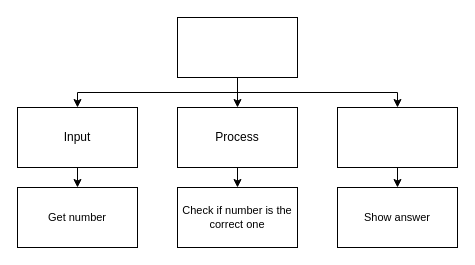
This 475x265 diagram has some shape labels left out. Here are the shapes that lost their labels. From the top down, the box of each, then its label:
(176, 16, 298, 78): Number Guessing Game
(336, 106, 458, 168): Output
